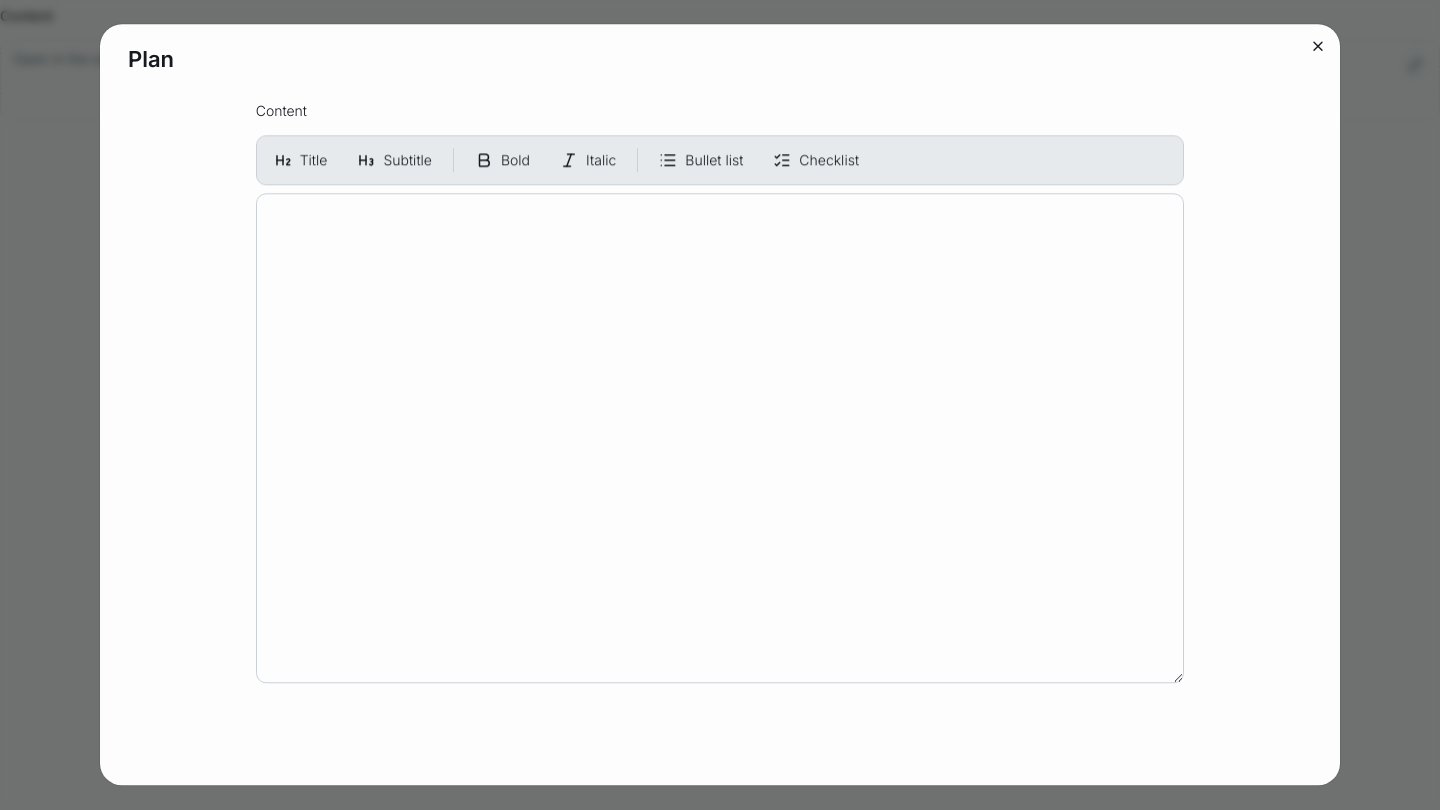
Test: expanded toolbar › NOTES-B28 the toolbar shows only in the expanded view, formats the selection and keeps focus in the text
Type "say hi now" into the text box labelled "Content" at (720, 438), box x1=256 y1=194 x2=1184 y2=683
Click the button "Bold" at (503, 161), box x1=462 y1=141 x2=543 y2=181
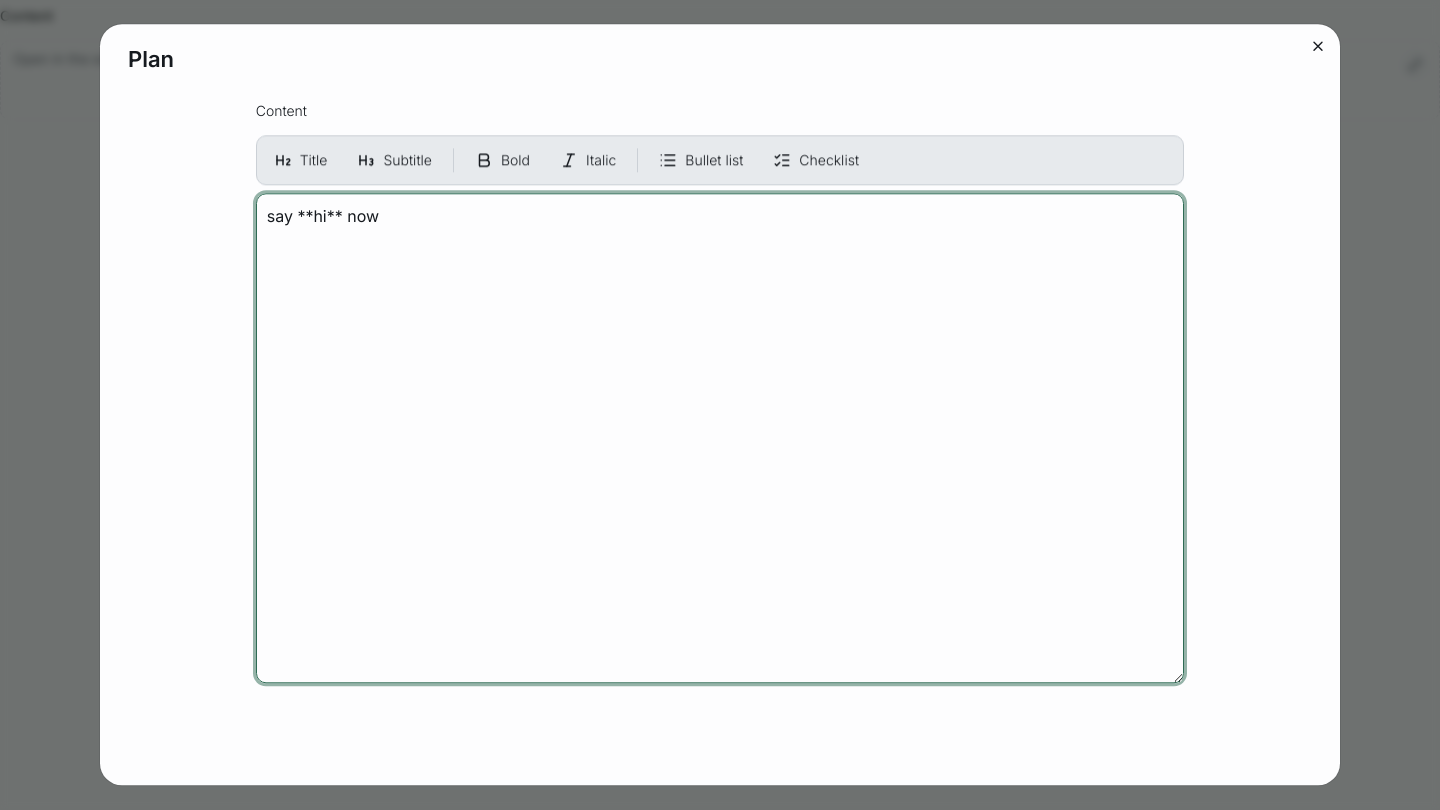
Check: the text box labelled "Content" holds "say **hi** now", box x1=256 y1=194 x2=1184 y2=683
Click the button "Checklist" at (816, 161), box x1=760 y1=141 x2=872 y2=181
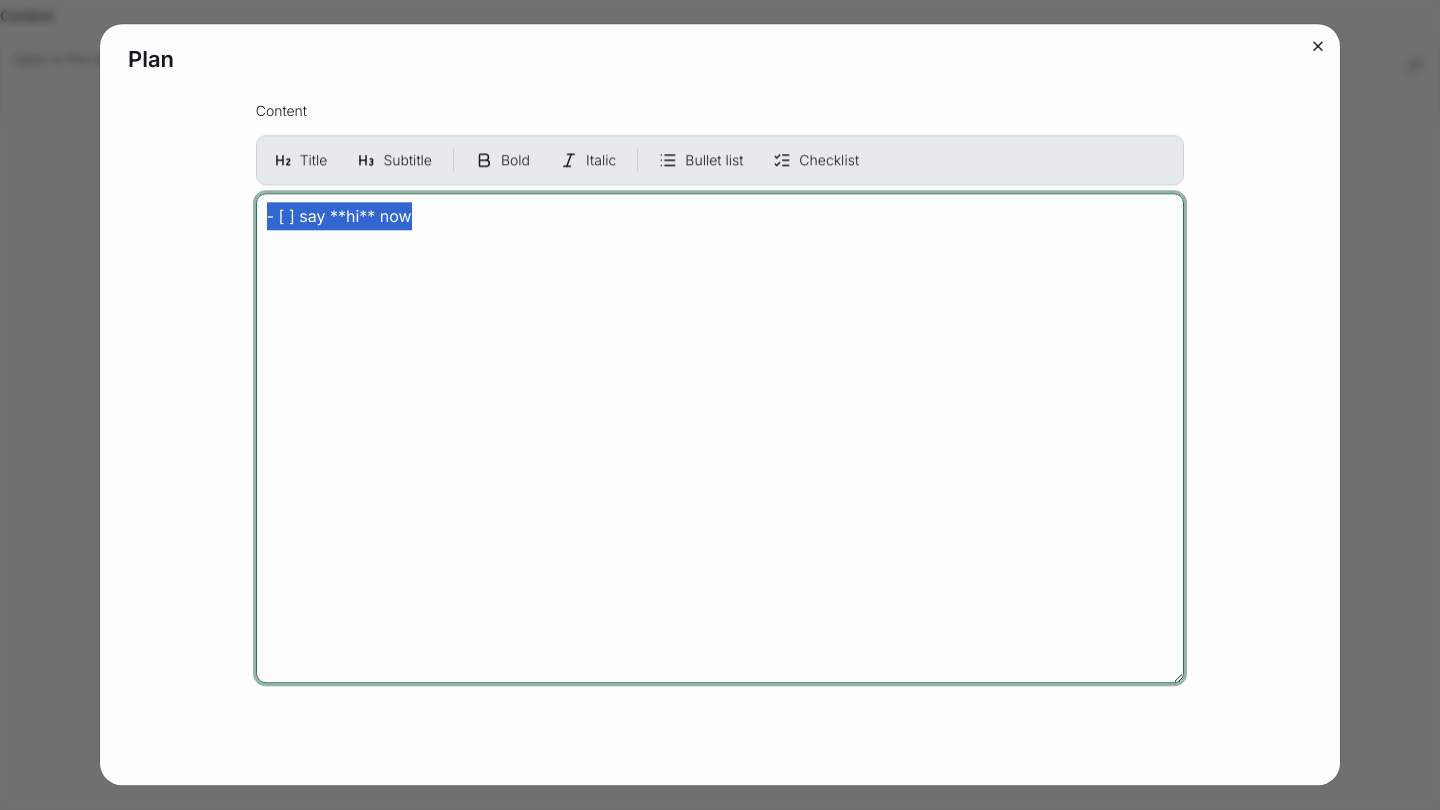
Check: the text box labelled "Content" holds "- [ ] say **hi** now", box x1=256 y1=194 x2=1184 y2=683
Click the button "Bullet list" at (701, 161), box x1=646 y1=141 x2=756 y2=181
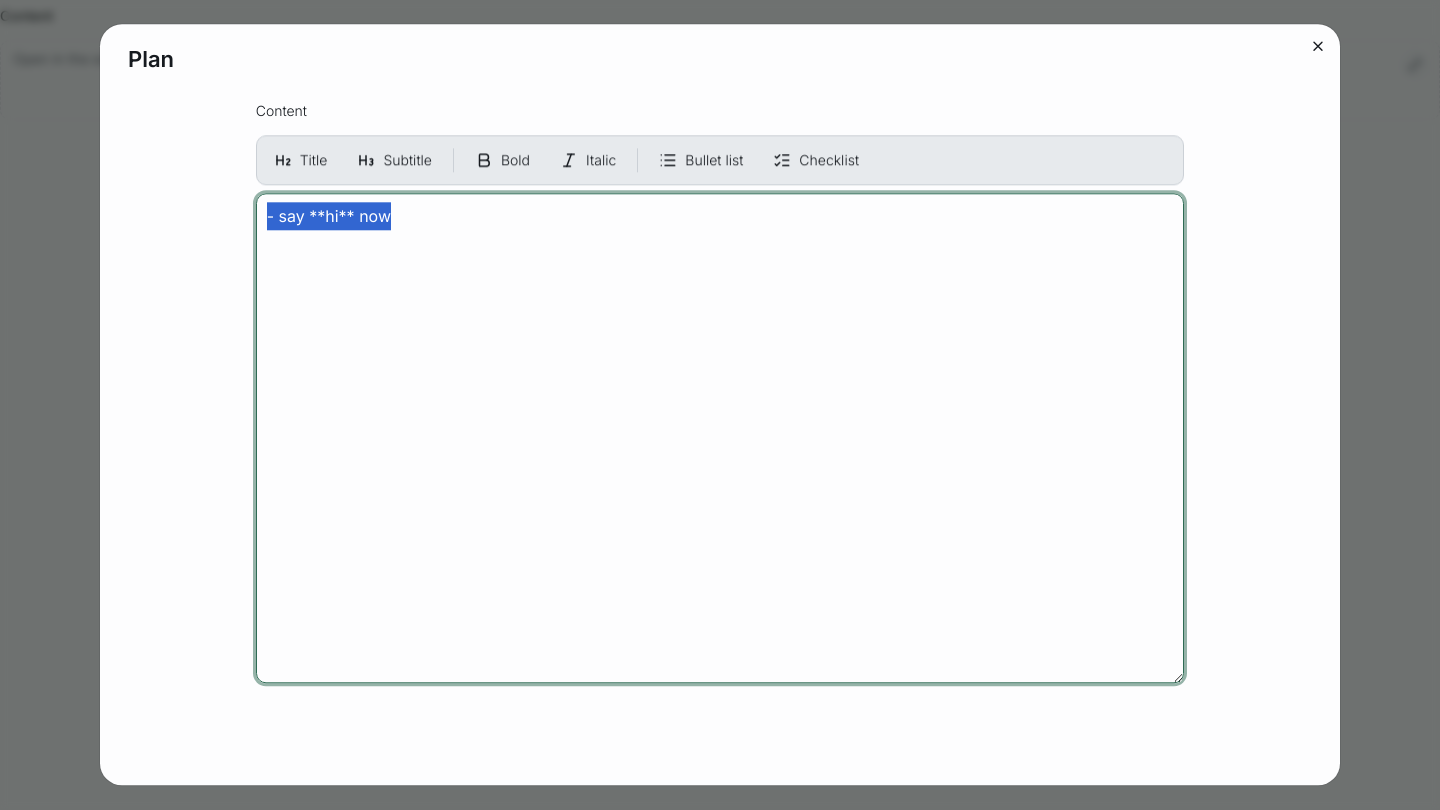
Check: the text box labelled "Content" holds "- say **hi** now", box x1=256 y1=194 x2=1184 y2=683
Click the button "Italic" at (588, 161), box x1=547 y1=141 x2=629 y2=181
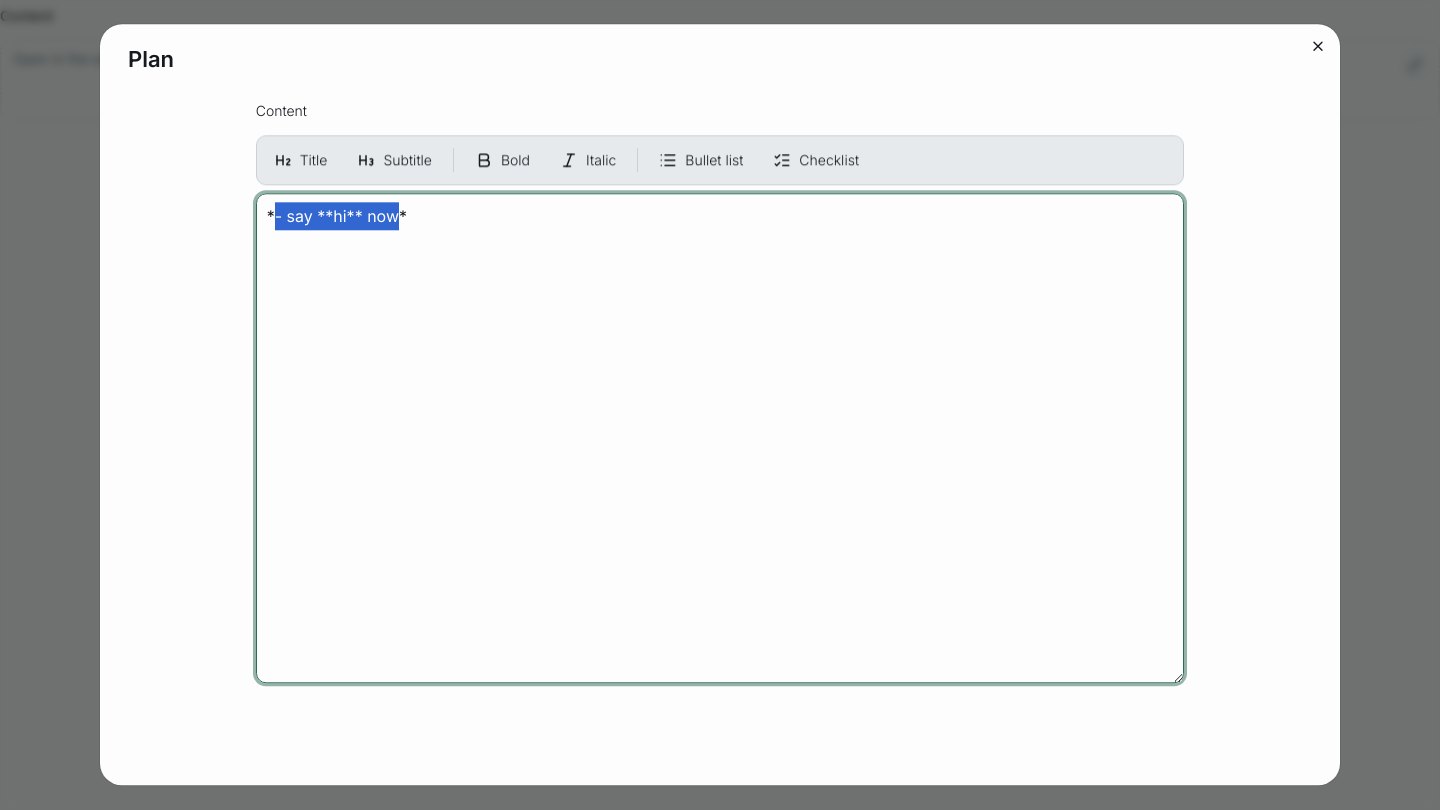
Replace the text in the text box labelled "Content" with "Agenda" at (720, 438), box x1=256 y1=194 x2=1184 y2=683
Click the button "Title" at (301, 161), box x1=261 y1=141 x2=340 y2=181
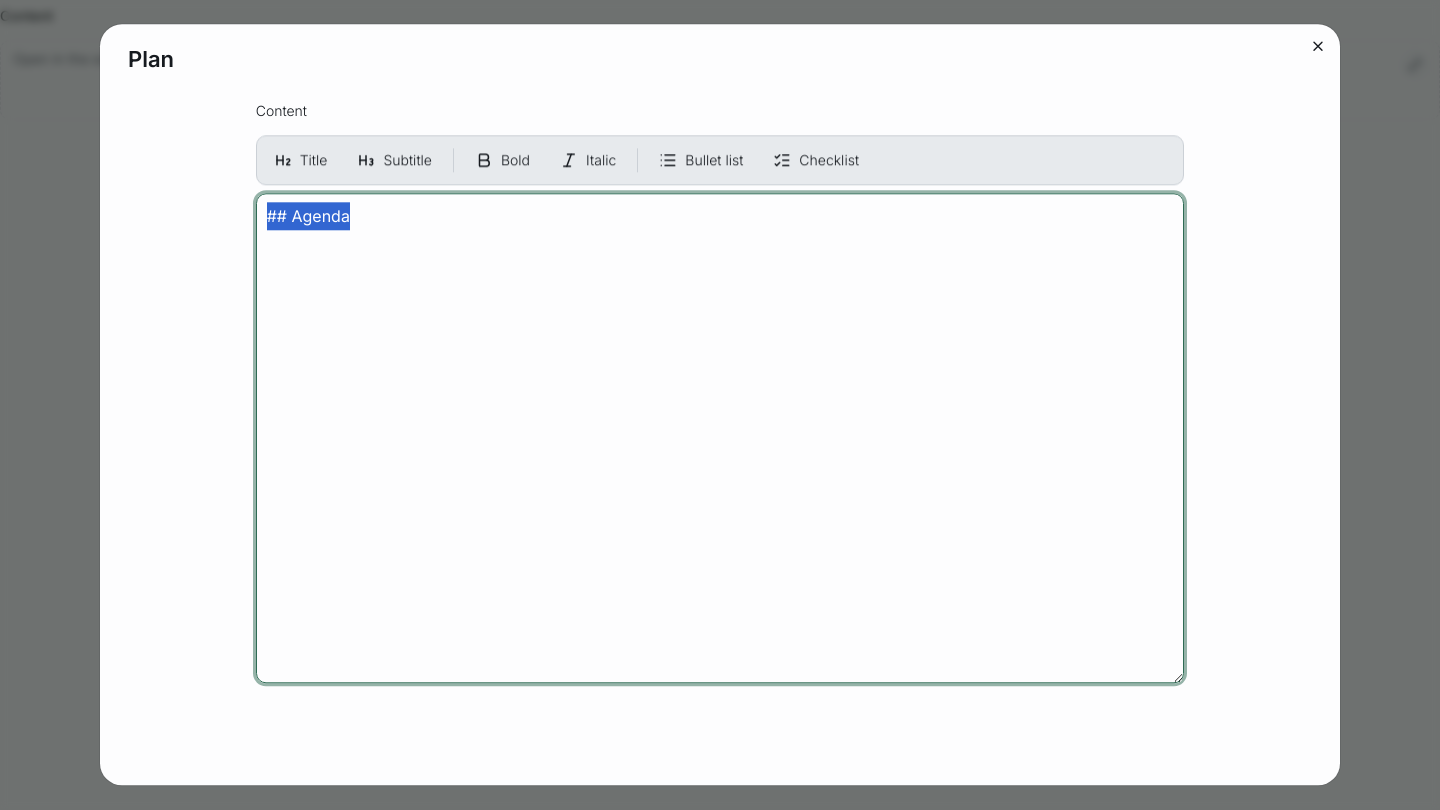
Check: the text box labelled "Content" holds "## Agenda", box x1=256 y1=194 x2=1184 y2=683
Click the button "Subtitle" at (395, 161), box x1=344 y1=141 x2=445 y2=181
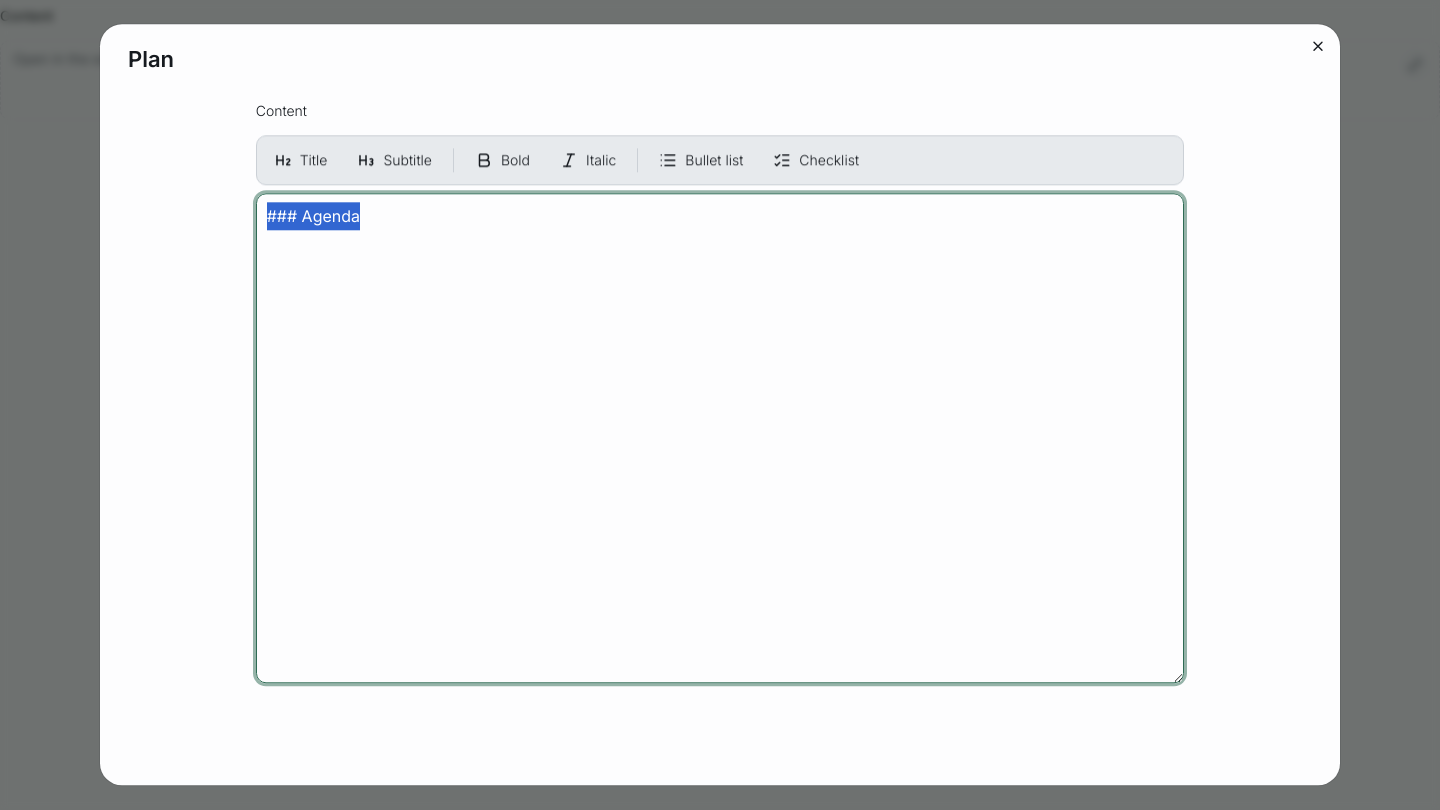
Check: the text box labelled "Content" holds "### Agenda", box x1=256 y1=194 x2=1184 y2=683
